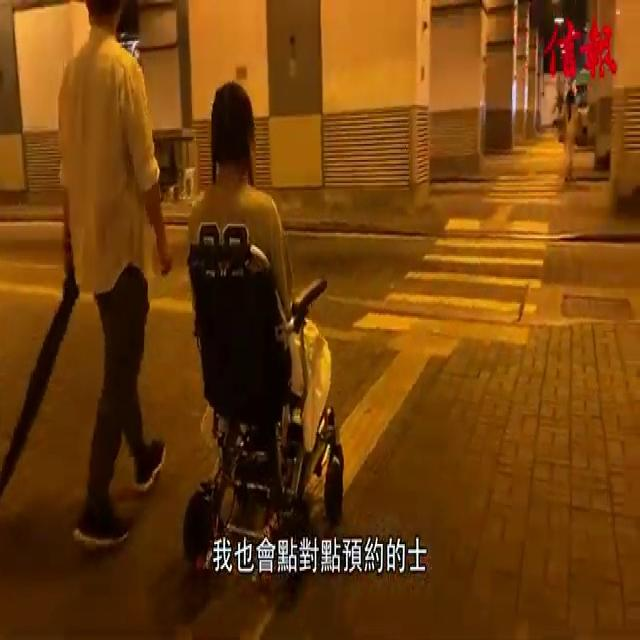wheelchairs: (178, 234, 350, 571)
